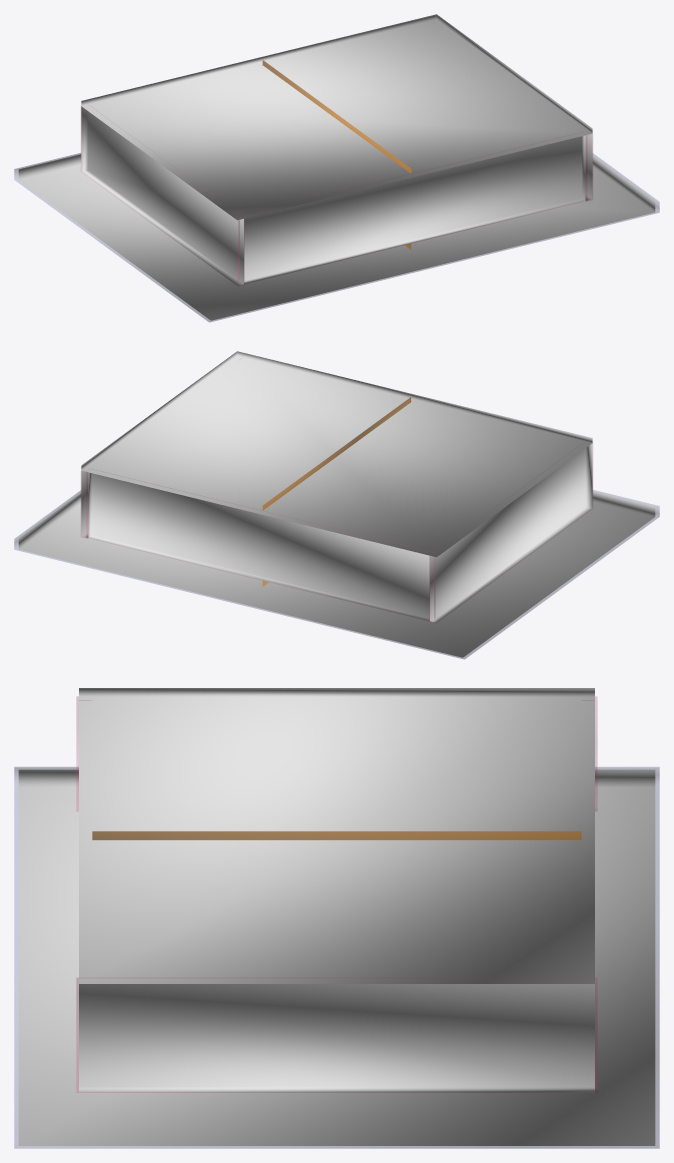
The model's file is hatch_coaming.glb.
3 renders of one model, top to bottom at view 1: azimuth 30°, elevation 25°; view 2: azimuth 150°, elevation 25°; view 3: azimuth 270°, elevation 25°, orthographic. The views are drawn at different scales.
Visible parts, largest first — view 1: coaming_top, upper_deck, coaming_side_right, coaming_side_front, upper_deck_m4, upper_deck_m5, joint_J01_m1, joint_J03_m1, coaming_side_back; view 2: coaming_top, upper_deck, coaming_side_left, coaming_side_front, upper_deck_m4, upper_deck_m5, joint_J01_m1, joint_J03_m1, coaming_side_back; view 3: coaming_top, upper_deck, coaming_side_back, upper_deck_m5, upper_deck_m4, joint_J01_m1, joint_J03_m1, coaming_side_back_m3, coaming_side_front_m3.
Part boxes in pixels (x1,y1,x2,y2): coaming_top: (81, 14, 592, 220); upper_deck: (18, 154, 655, 320); coaming_side_right: (244, 135, 585, 283); coaming_side_front: (81, 106, 243, 285); upper_deck_m4: (15, 153, 658, 321); upper_deck_m5: (14, 153, 659, 321); joint_J01_m1: (263, 61, 410, 249); joint_J03_m1: (263, 61, 410, 248); coaming_side_back: (585, 133, 592, 200); coaming_top: (81, 351, 592, 557); upper_deck: (18, 491, 655, 657); coaming_side_left: (88, 472, 429, 620); coaming_side_front: (430, 443, 592, 622); upper_deck_m4: (15, 490, 658, 658); upper_deck_m5: (14, 490, 659, 658); joint_J01_m1: (263, 398, 410, 586); joint_J03_m1: (263, 398, 410, 585); coaming_side_back: (81, 470, 88, 537); coaming_top: (79, 688, 594, 983); upper_deck: (18, 769, 655, 1145); coaming_side_back: (79, 984, 594, 1092); upper_deck_m5: (14, 767, 659, 1148); upper_deck_m4: (15, 767, 658, 1147); joint_J01_m1: (92, 831, 581, 839); joint_J03_m1: (93, 832, 580, 839); coaming_side_back_m3: (76, 978, 597, 1092); coaming_side_front_m3: (76, 696, 597, 811).
Size of the model in its own units: 15.83 by 2.74 by 11.88.
